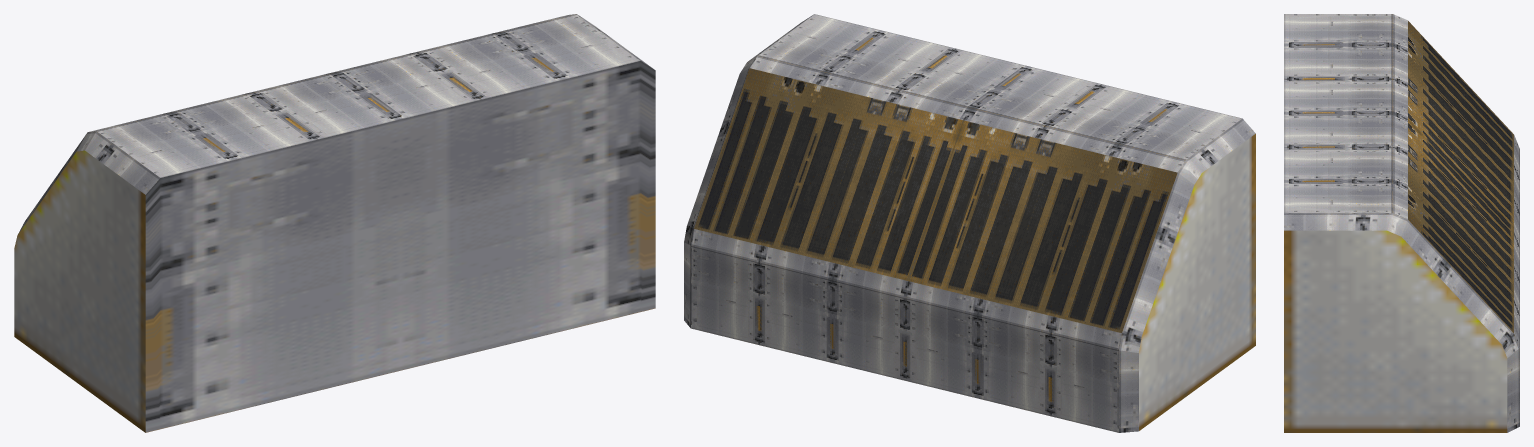
The model's file is SpaceshipPart06.fbx.
3 views of the same model, side by side, from view 1: azimuth 30°, elevation 25°; view 2: azimuth 150°, elevation 25°; view 3: azimuth 270°, elevation 25° (orthographic). The views are drawn at different scales.
Visible parts, largest first — view 1: SpaceshipPart06; view 2: SpaceshipPart06; view 3: SpaceshipPart06.
Part boxes in pixels (left/top/right/bottom): SpaceshipPart06: left=14, top=14, right=655, bottom=432; SpaceshipPart06: left=684, top=14, right=1255, bottom=432; SpaceshipPart06: left=1284, top=14, right=1519, bottom=432.
Size of the model in its own units: 212 by 100 by 100.
